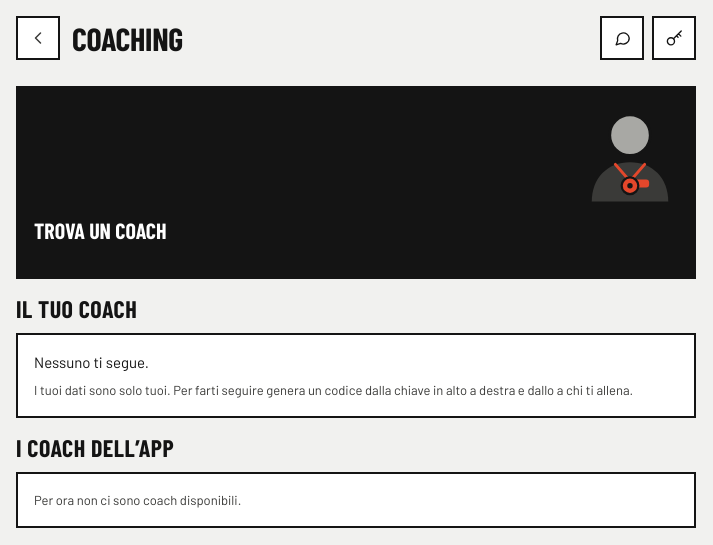
Test case: un atleta nel Coaching › dalla chiave genera il suo codice, e seguire qualcuno non gli viene proposto
What coordinates should you click on to do the following:
click the button named "Codici"
I would click on:
 (674, 38)
Its box is [652,16,696,60].
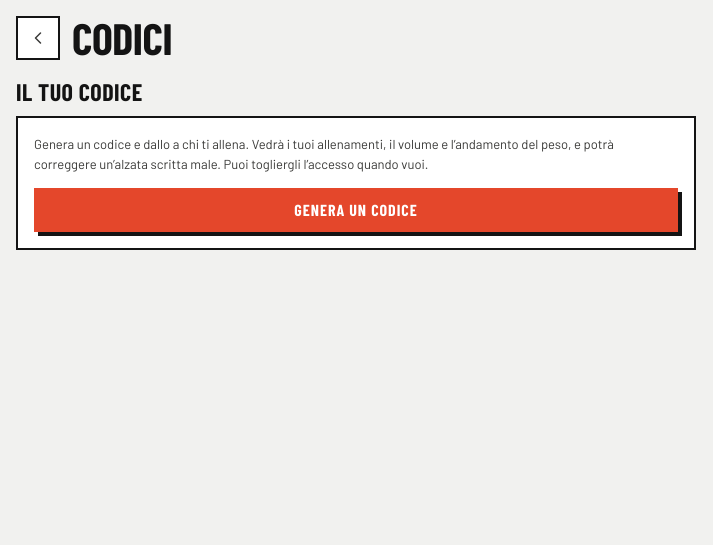
Now the button "Genera un codice" is shown, box [34,188,678,232]
